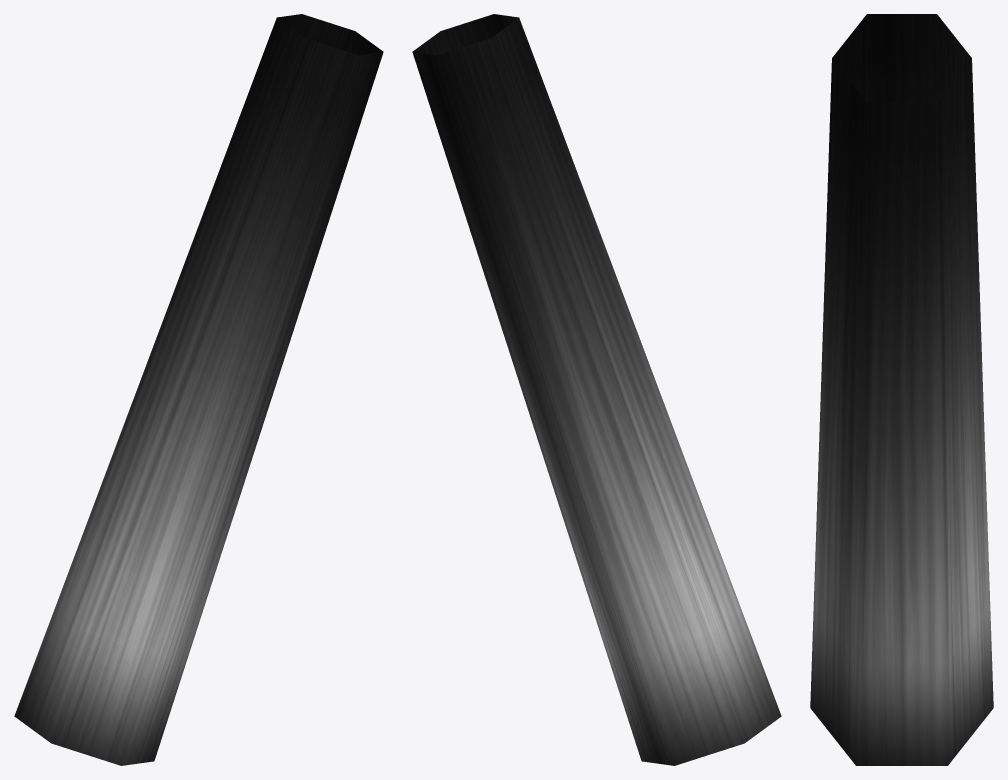
Rendered from BFShaft01.fbx.
3 views of the same model, side by side, from view 1: azimuth 30°, elevation 25°; view 2: azimuth 150°, elevation 25°; view 3: azimuth 270°, elevation 25° (orthographic). The views are drawn at different scales.
Visible parts, largest first — view 1: BFShaft01; view 2: BFShaft01; view 3: BFShaft01.
Boxes of the visible parts, left/top/right/bottom form: BFShaft01: left=14, top=14, right=383, bottom=765; BFShaft01: left=412, top=14, right=781, bottom=765; BFShaft01: left=810, top=14, right=993, bottom=765.
Bounding box in the file's own units: 6.01 × 11.63 × 2.29.
